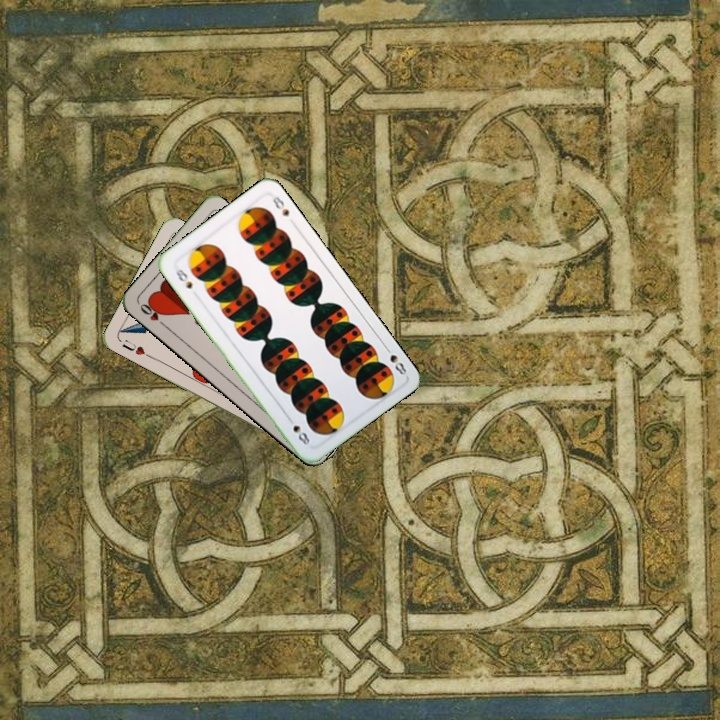HO: (136, 298, 169, 330)
HU: (118, 335, 154, 361)
S8: (380, 341, 409, 378), (170, 264, 195, 291)
